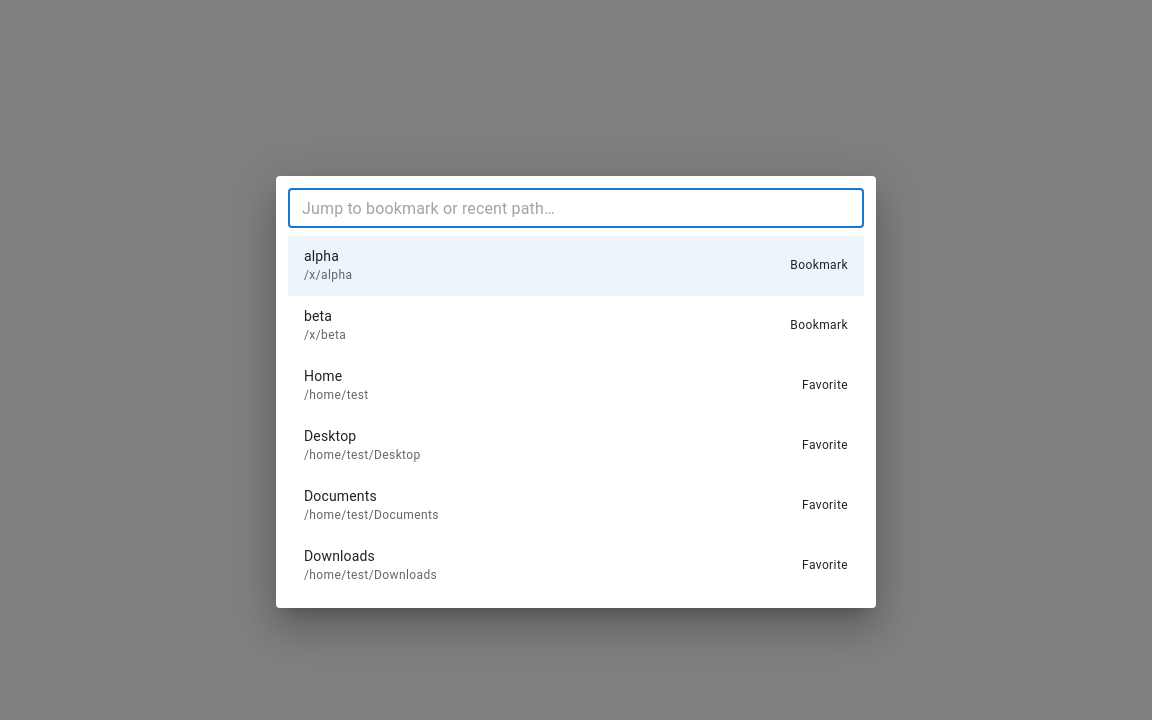
Test case: QuickJump › filters by substring against label and path
Expected: the text "alpha" is shown, [304,248,339,264]
Type "alp" into the field named "Quick jump query".
click(576, 208); type("alp")  # box [288,188,864,228]
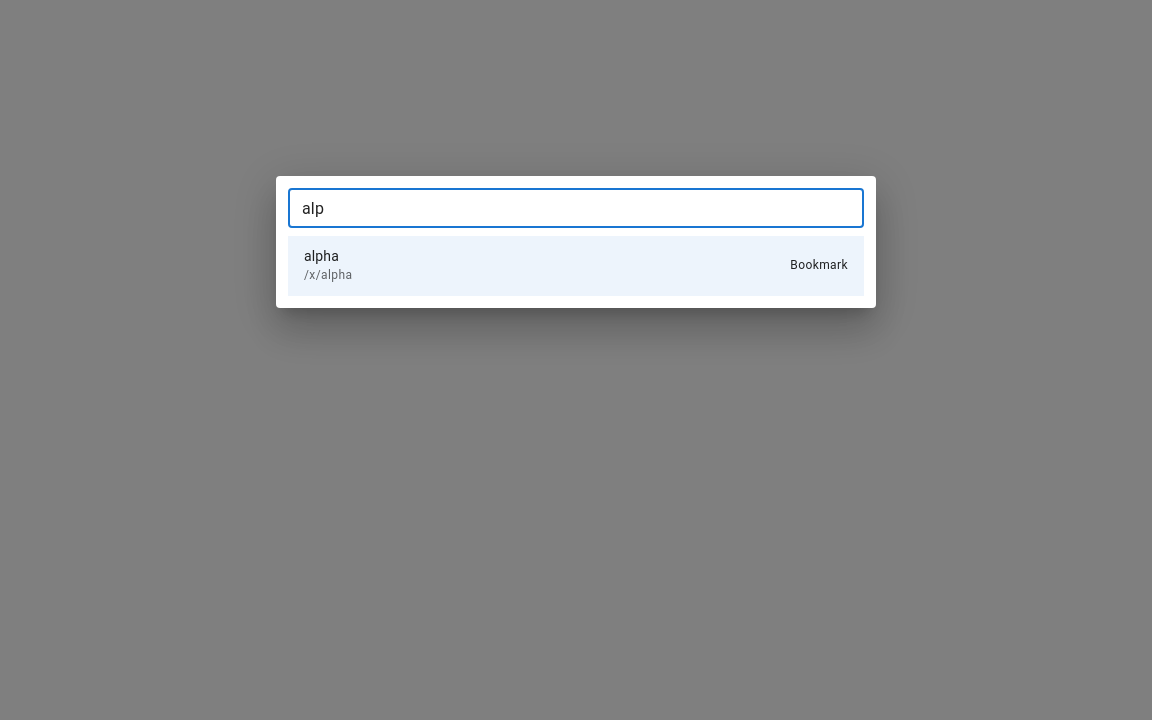
Expected: the text "alpha" is shown, [304,248,339,264]
Result: the button "beta" is gone
